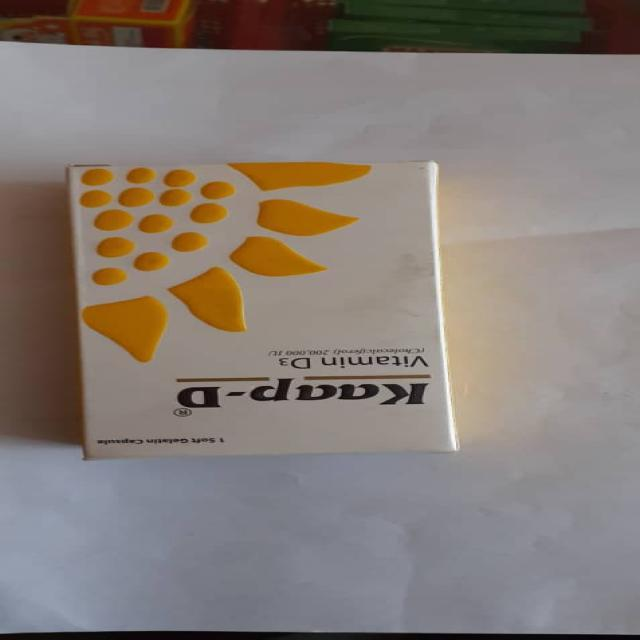drug-name: (166, 382, 428, 412)
